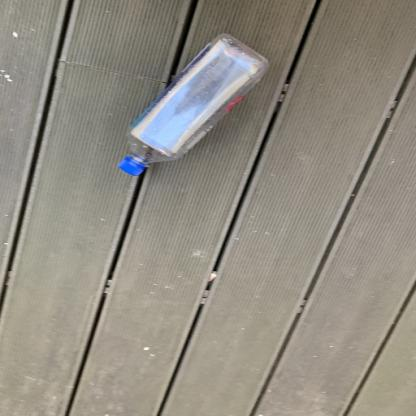trash: (118, 35, 274, 183)
